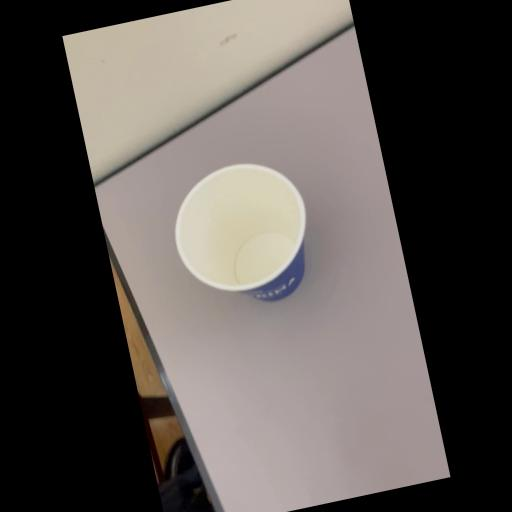lp_paper_cup: (160, 148, 322, 316)
